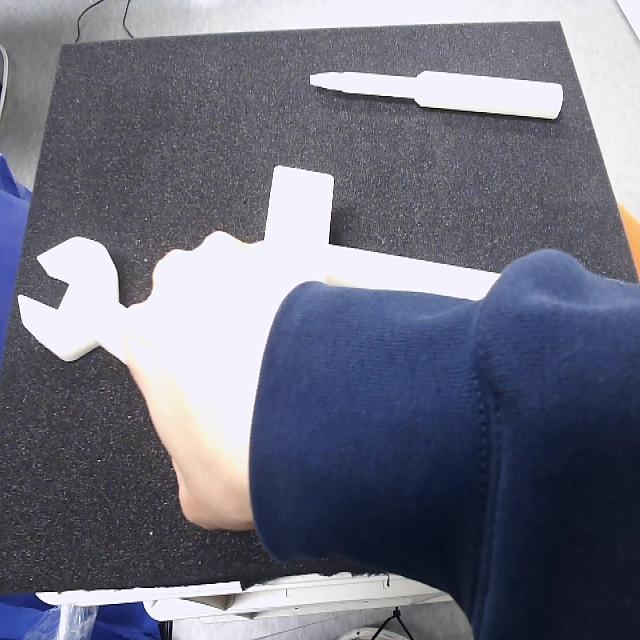Driver: (309, 71, 564, 121)
